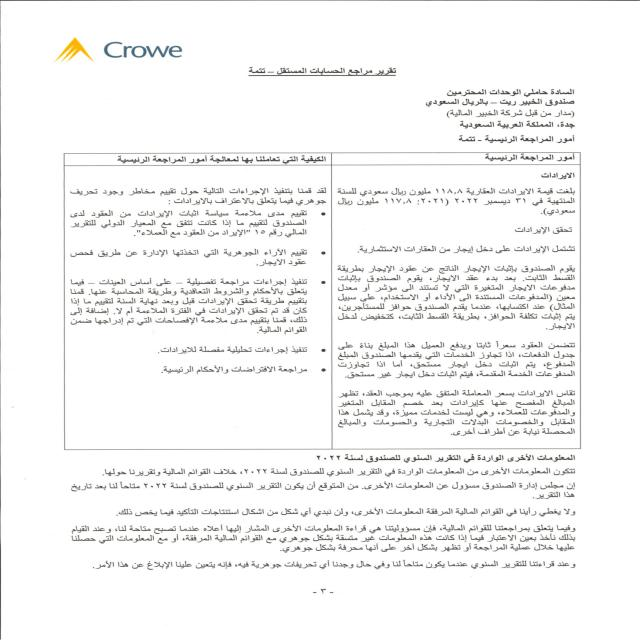auditor_report: (234, 62, 411, 83)
